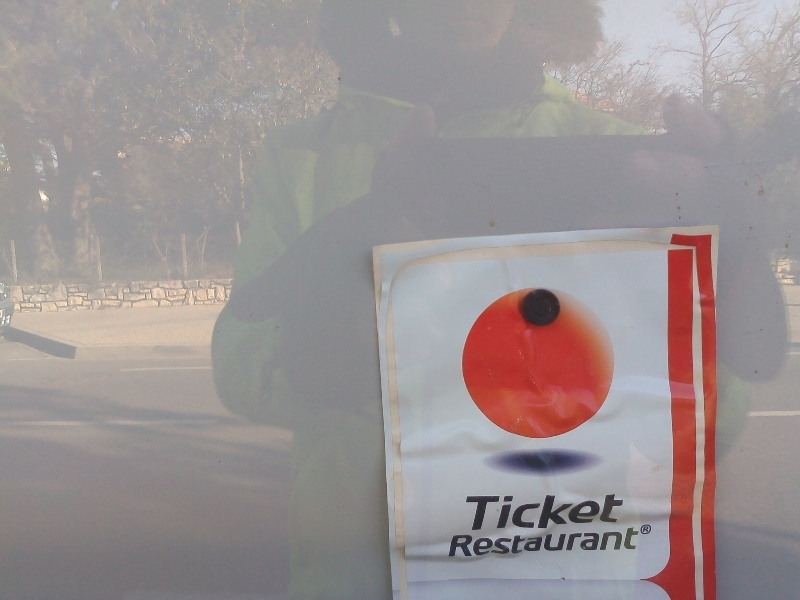text: (465, 492, 480, 534), (481, 492, 496, 534), (497, 492, 512, 534), (513, 492, 528, 534), (529, 492, 544, 534), (545, 492, 560, 534), (561, 492, 576, 534), (577, 492, 592, 534), (593, 492, 608, 534), (609, 492, 624, 534), (625, 524, 641, 560), (465, 524, 480, 560), (481, 524, 496, 560), (497, 524, 512, 560), (513, 524, 528, 560), (529, 524, 544, 560), (545, 524, 560, 560), (561, 524, 576, 560), (577, 524, 592, 560), (593, 524, 608, 560), (609, 524, 624, 560), (452, 524, 464, 560), (625, 492, 630, 534), (461, 492, 464, 534), (643, 526, 656, 535)
